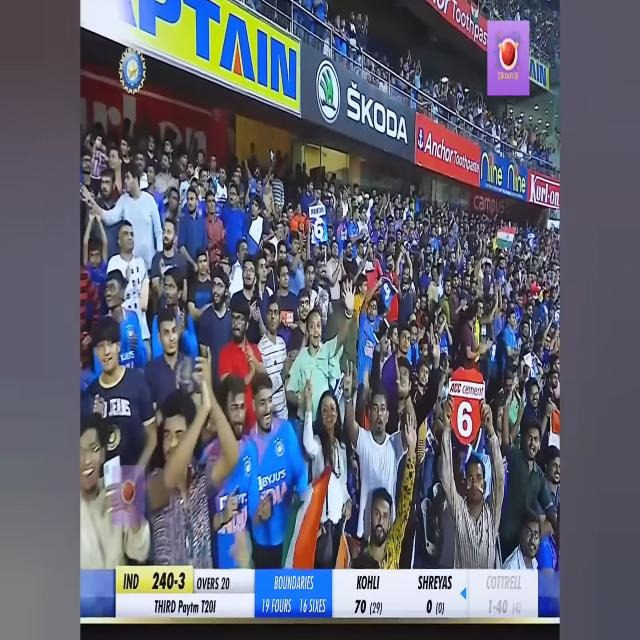fully_visible: (310, 200, 325, 218)
